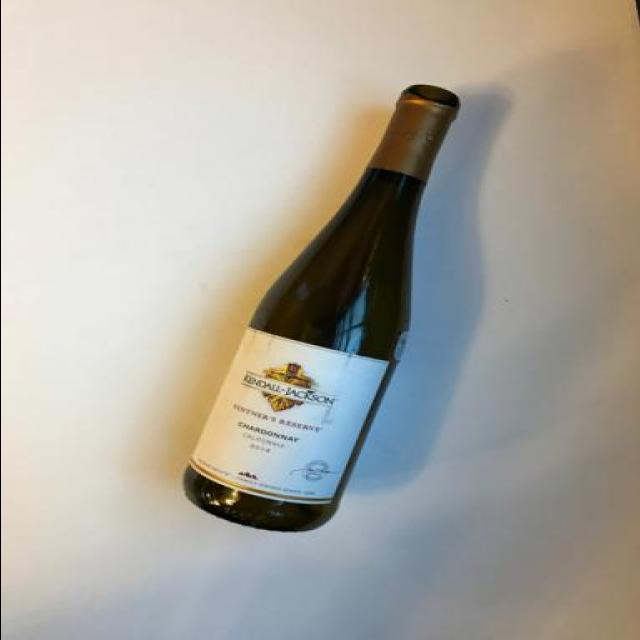Glass Bottle: (174, 84, 464, 535)
